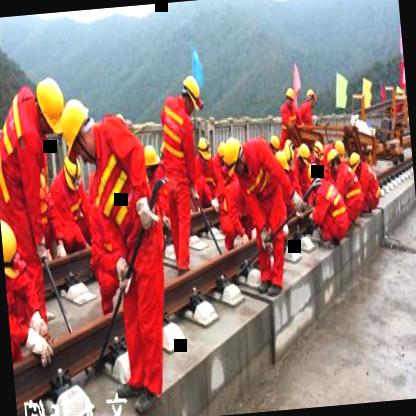helmet: (57, 96, 100, 164), (31, 73, 70, 138), (218, 137, 249, 181), (59, 148, 86, 198), (178, 69, 206, 114), (0, 215, 22, 271), (137, 139, 162, 182), (326, 146, 346, 181), (196, 134, 214, 172), (304, 161, 326, 190), (346, 148, 366, 178), (280, 84, 298, 112), (295, 142, 313, 170), (302, 88, 322, 112), (266, 131, 283, 158), (0, 165, 6, 220)
